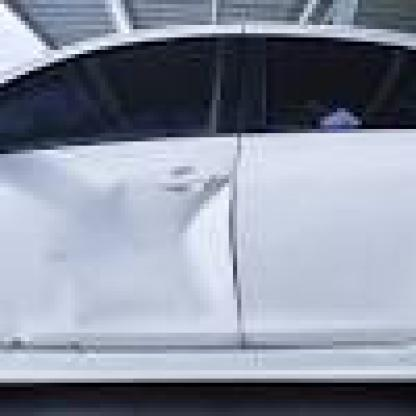dent: (172, 168, 235, 256)
